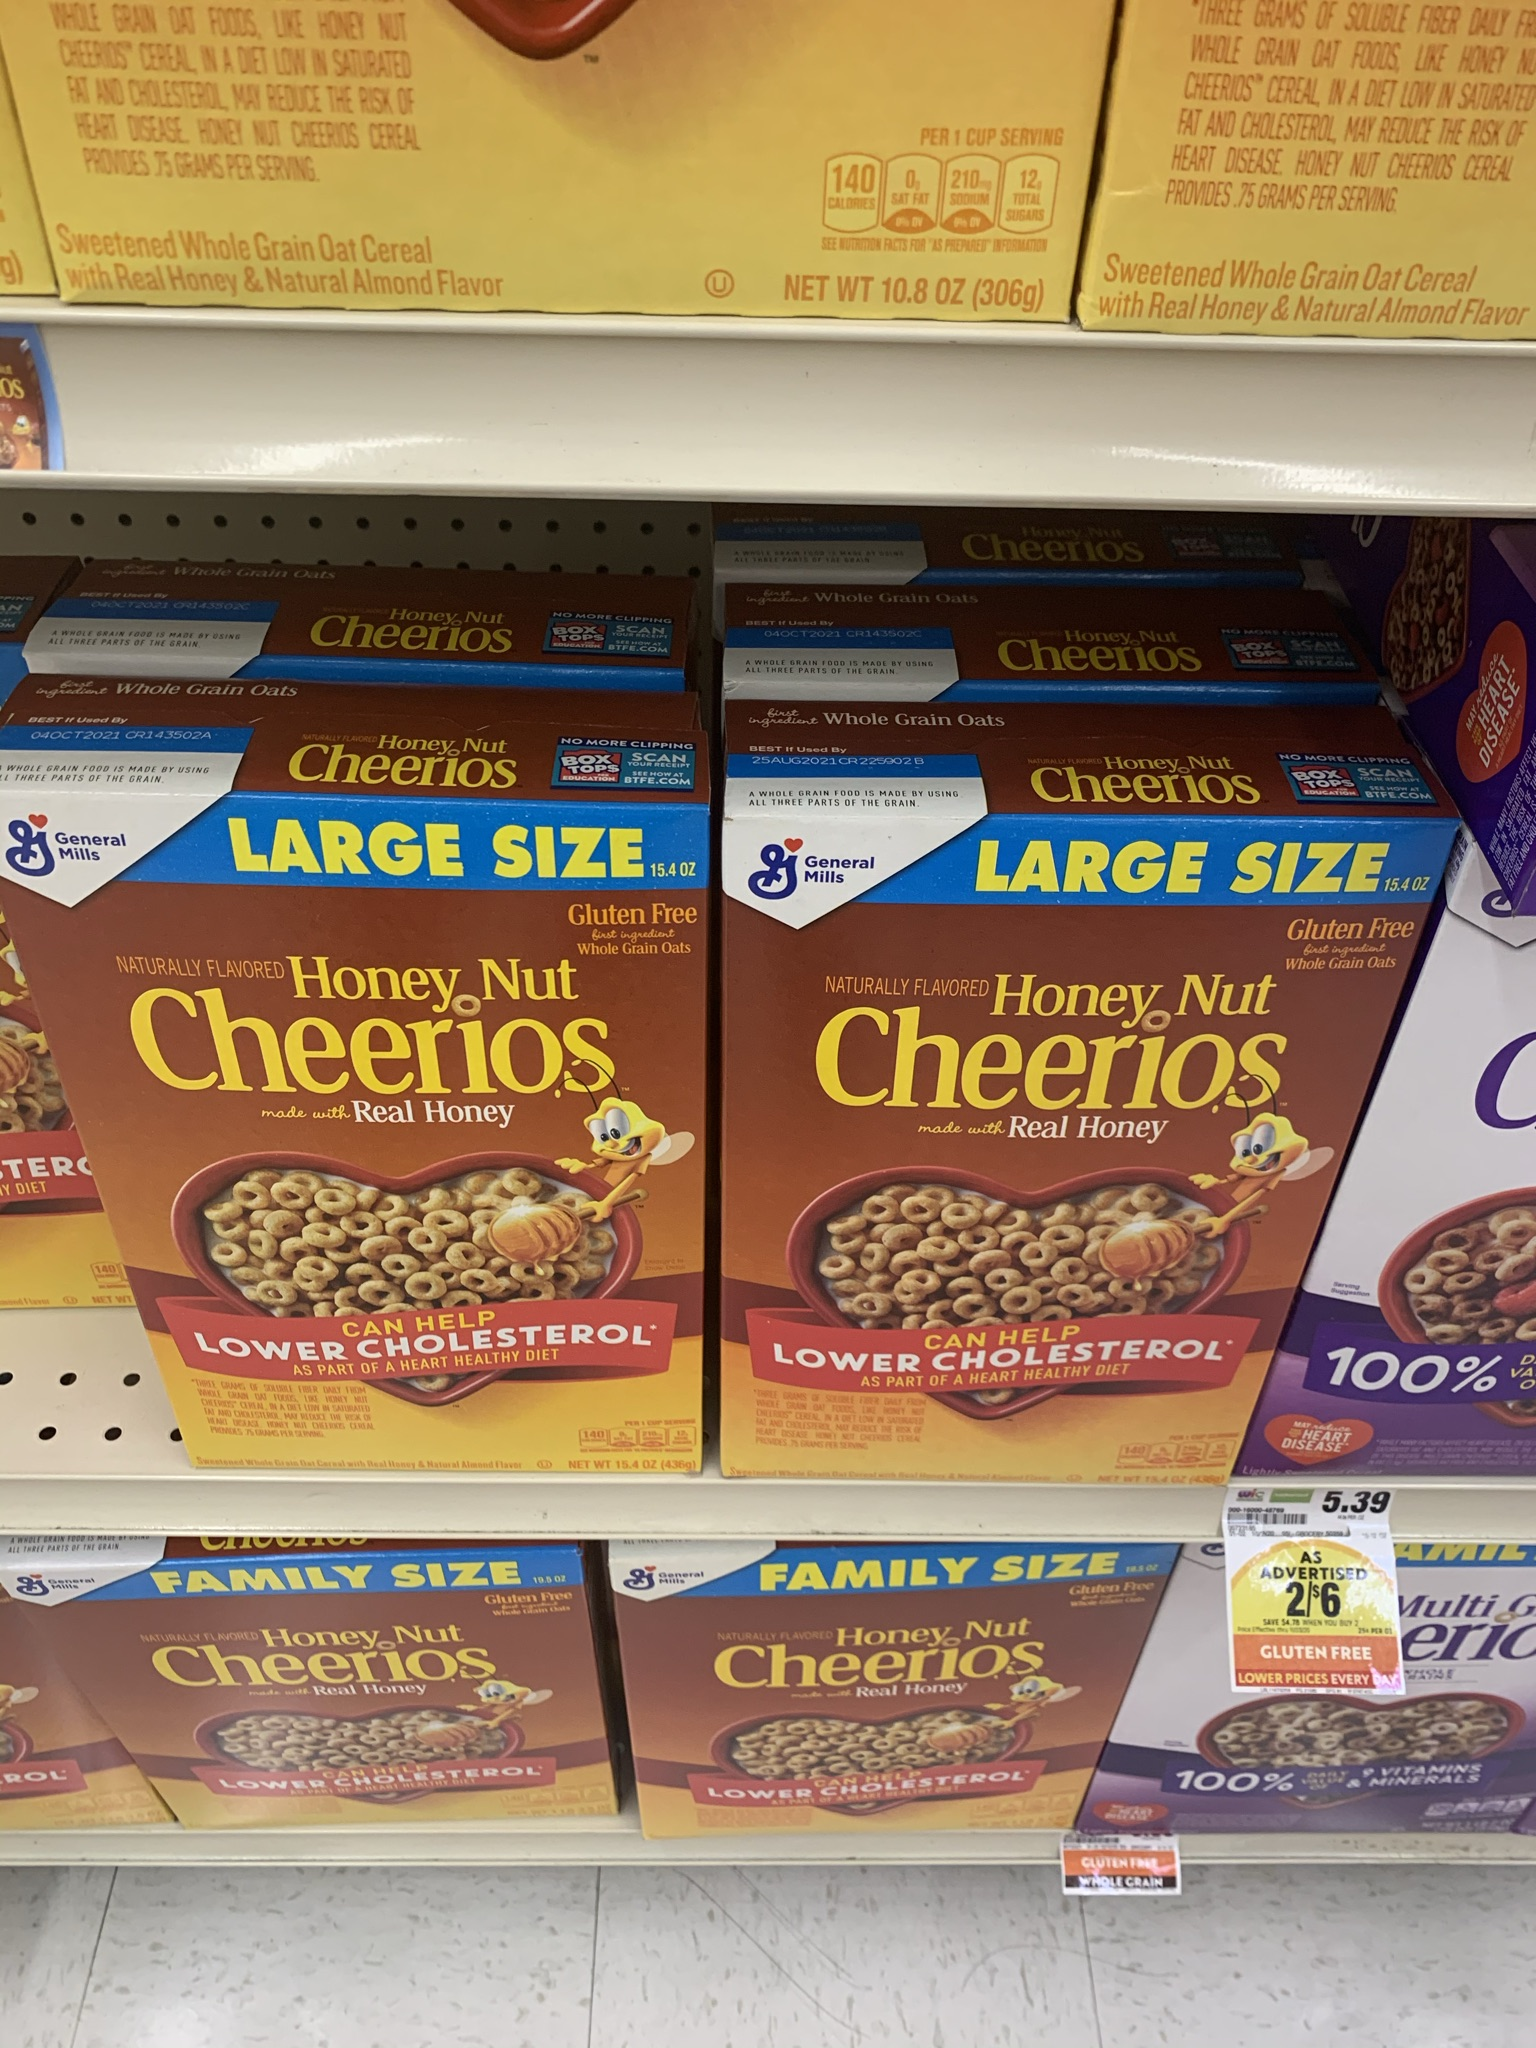box: (189, 814, 702, 1459), (736, 827, 1242, 1461), (131, 1571, 607, 1816), (670, 1567, 1075, 1830)
